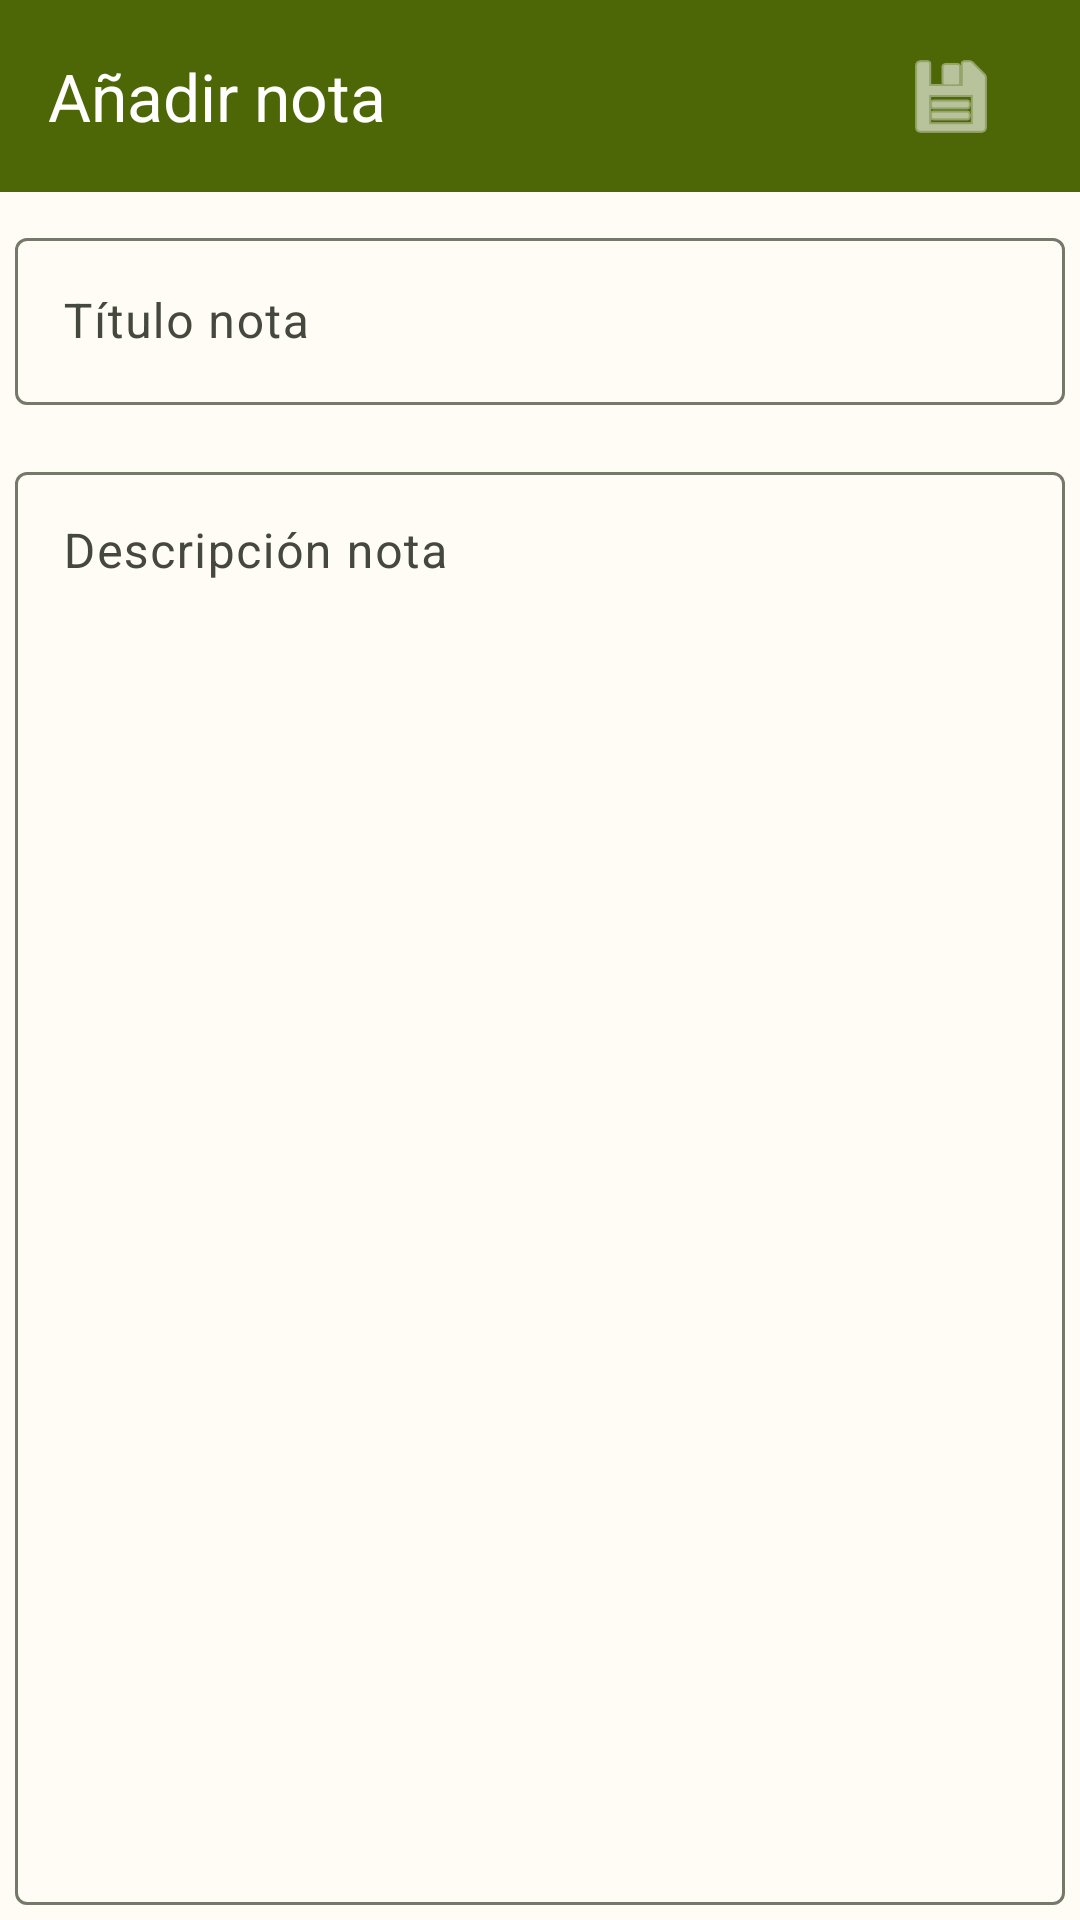

Where to tap for icons on this 1080×1920 app screen, as (x=x, y=y):
Guardar nota: (x=951, y=96)
